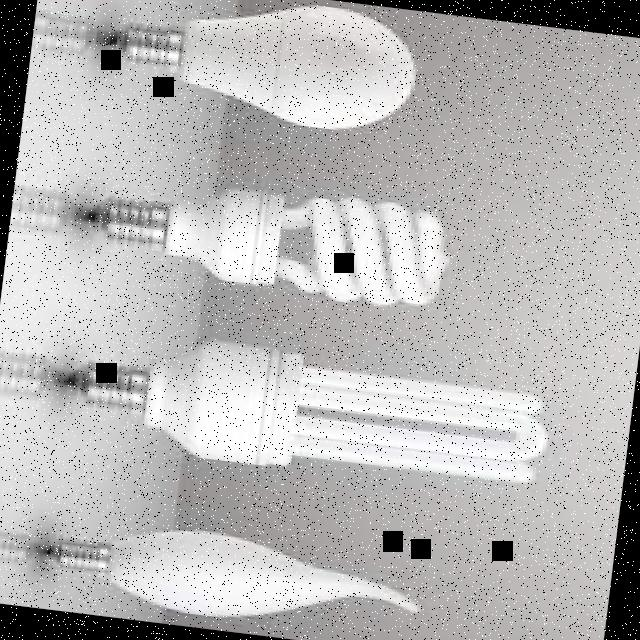light_bulb: (26, 312, 556, 502), (61, 147, 466, 324), (19, 482, 462, 640), (72, 0, 437, 155)
